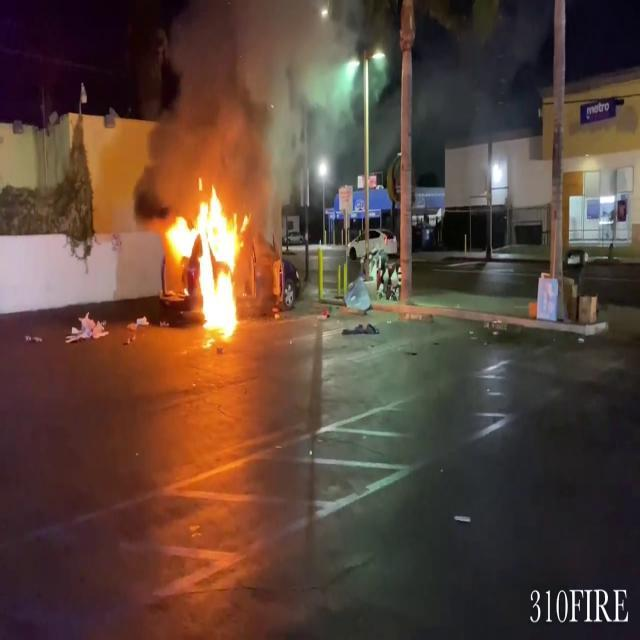Fire: (166, 178, 250, 340)
Smoke: (136, 0, 320, 201)
